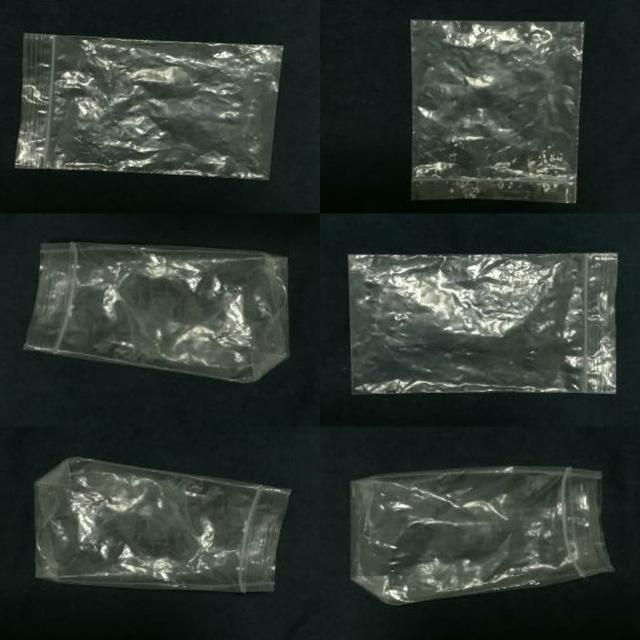Single-layer Plastic: (15, 34, 282, 180), (348, 252, 618, 394), (25, 242, 288, 382), (350, 466, 613, 605), (35, 458, 290, 592), (410, 20, 584, 203)
